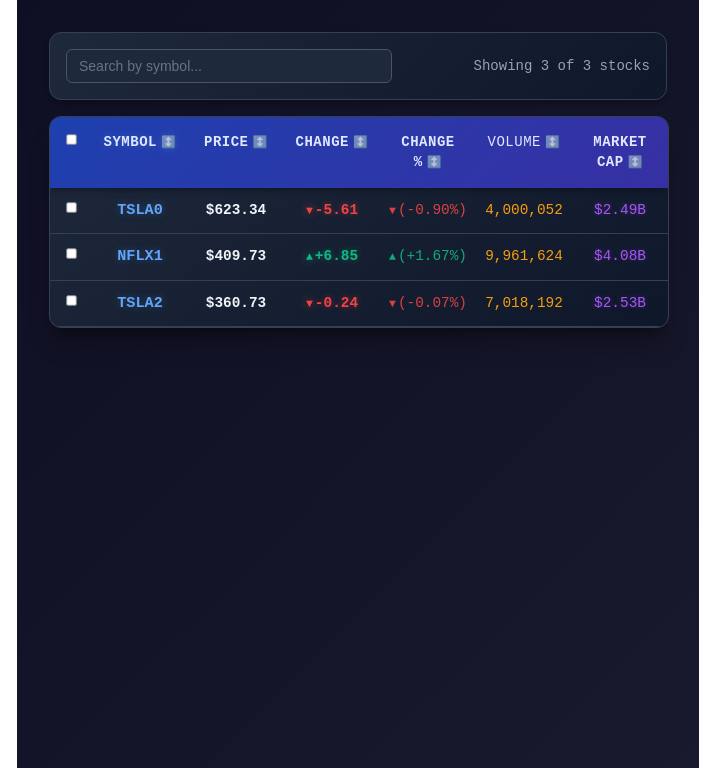
Scenario: DataGrid › should handle row selection
Select first row
Step 1. Click the checkbox next to "TSLA0" → (71, 208), box [66,202,76,213]
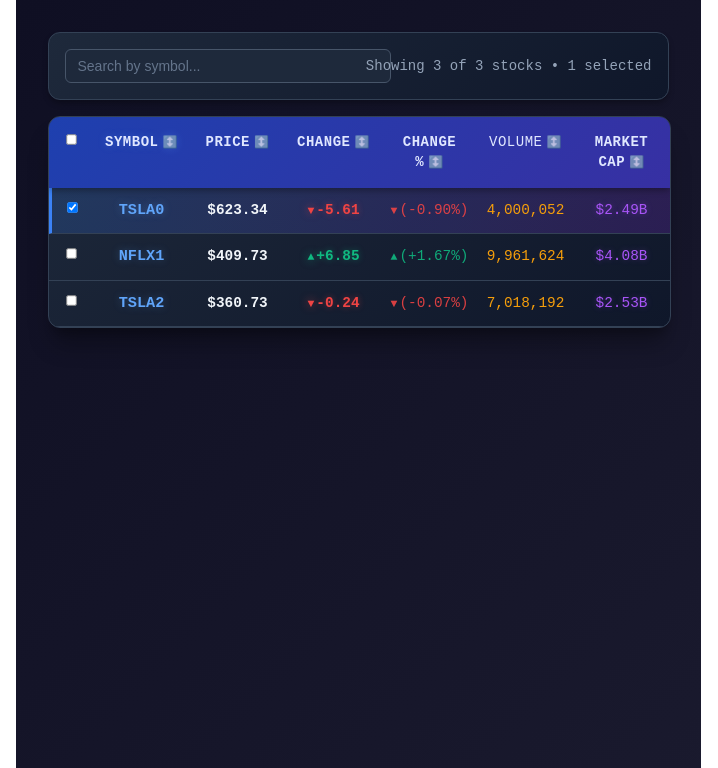
Result: the checkbox next to "TSLA0" is checked at [67,202,78,213]
Result: the text "Showing 3 of 3 stocks • 1 selected" is shown at [366,56,652,76]
